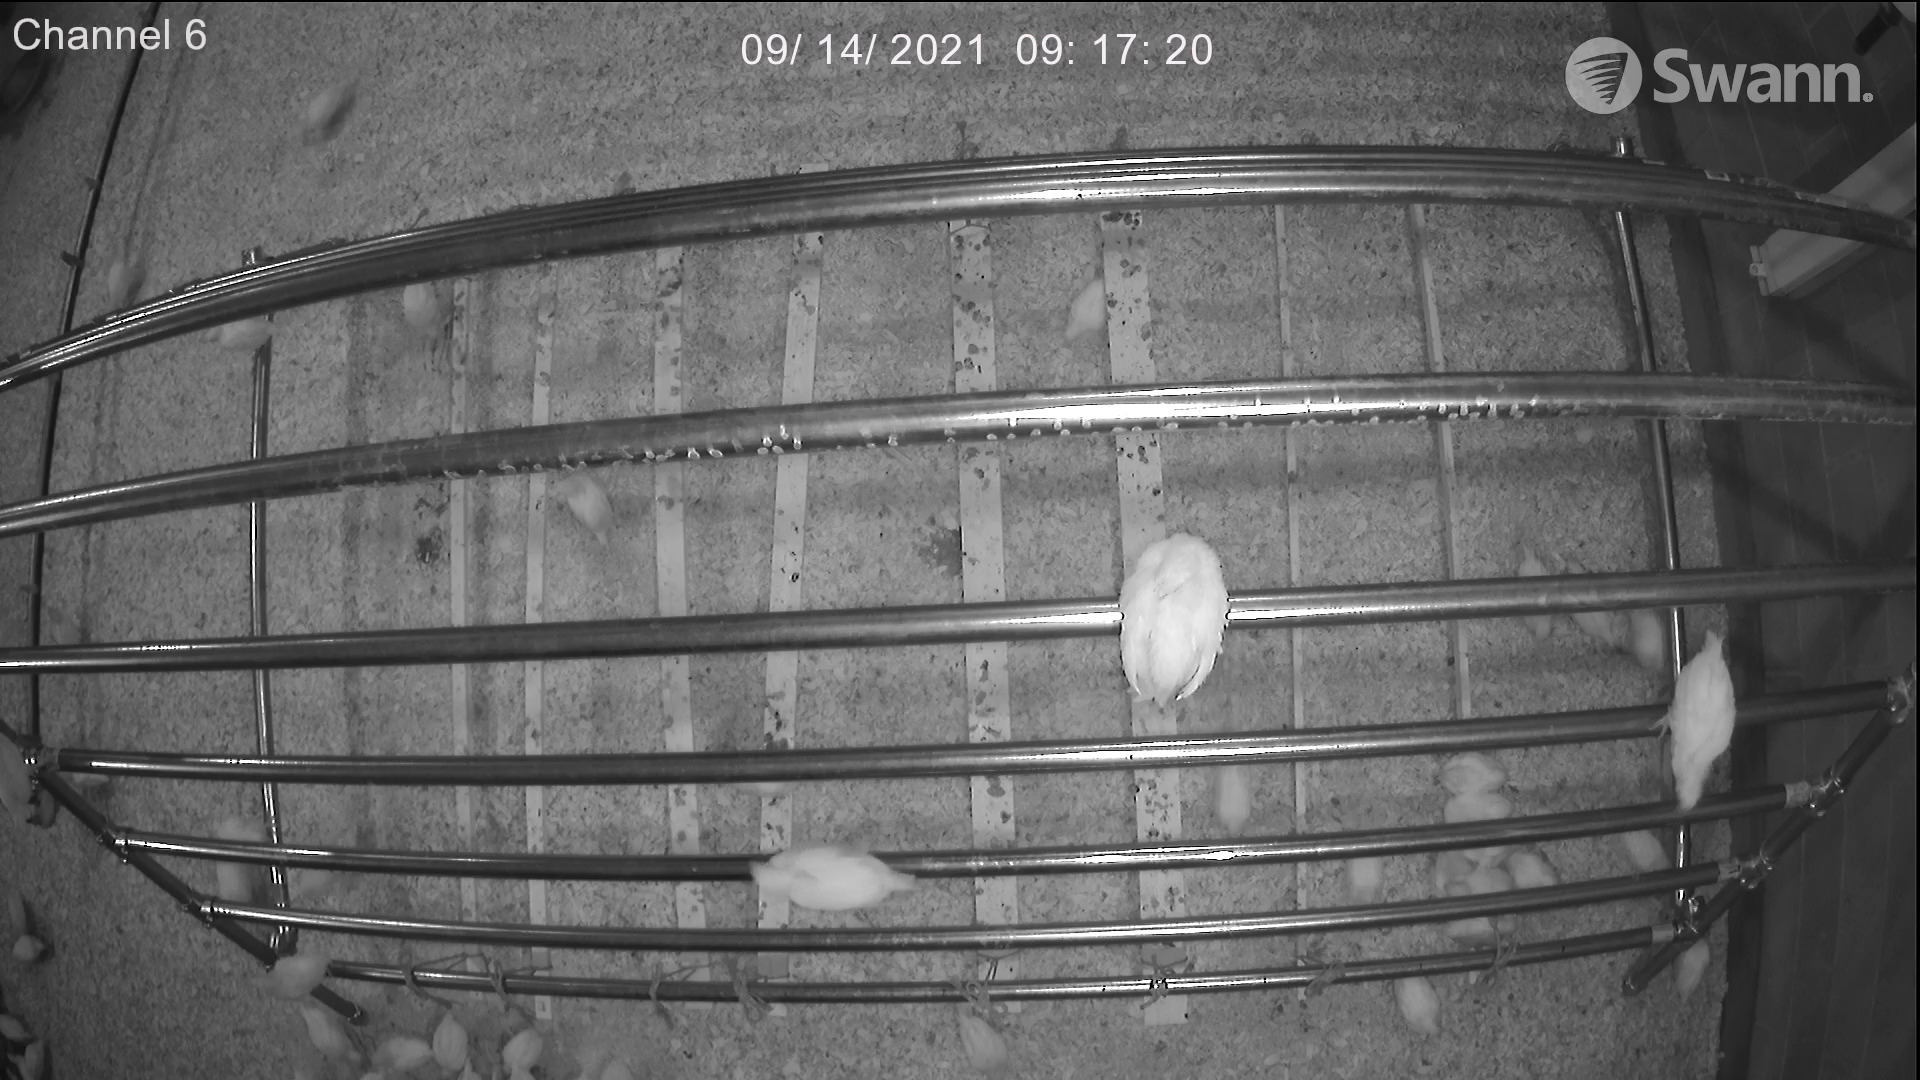Perching: (1068, 506, 1257, 723), (729, 837, 942, 920), (1651, 624, 1734, 814), (214, 931, 349, 1004)
